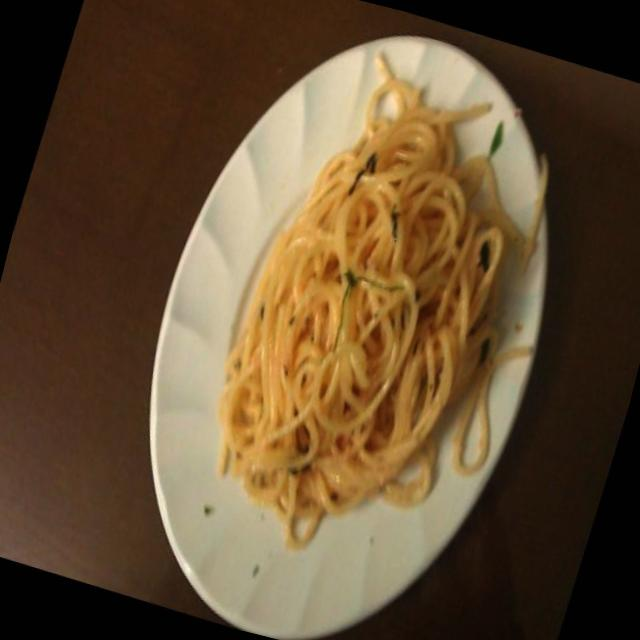Pasta: (190, 86, 573, 538)
